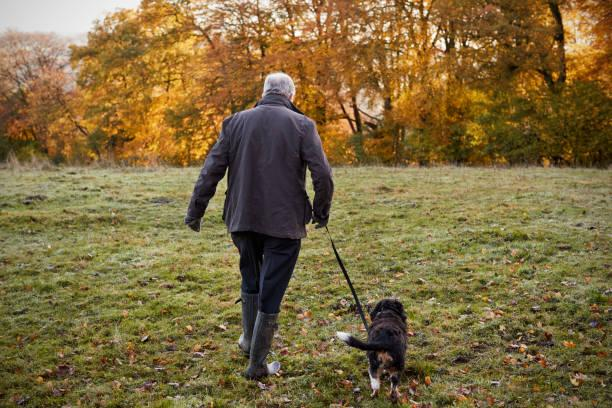Human: (188, 48, 315, 390)
